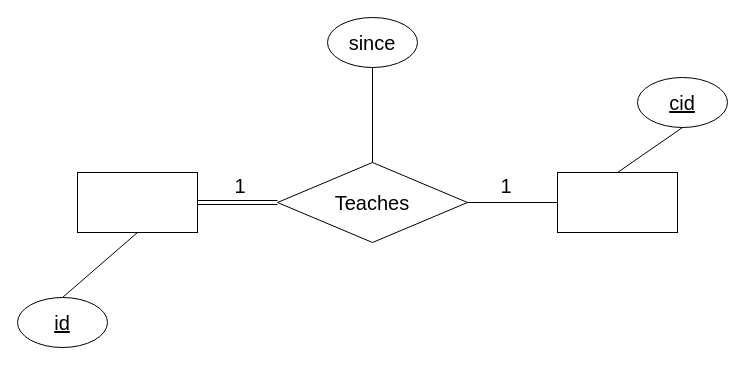
This 745x365 diagram has some shape labels left out. Each missing label, with the box of its shape:
Course: (556, 172, 678, 232)
Teacher: (76, 172, 198, 232)
